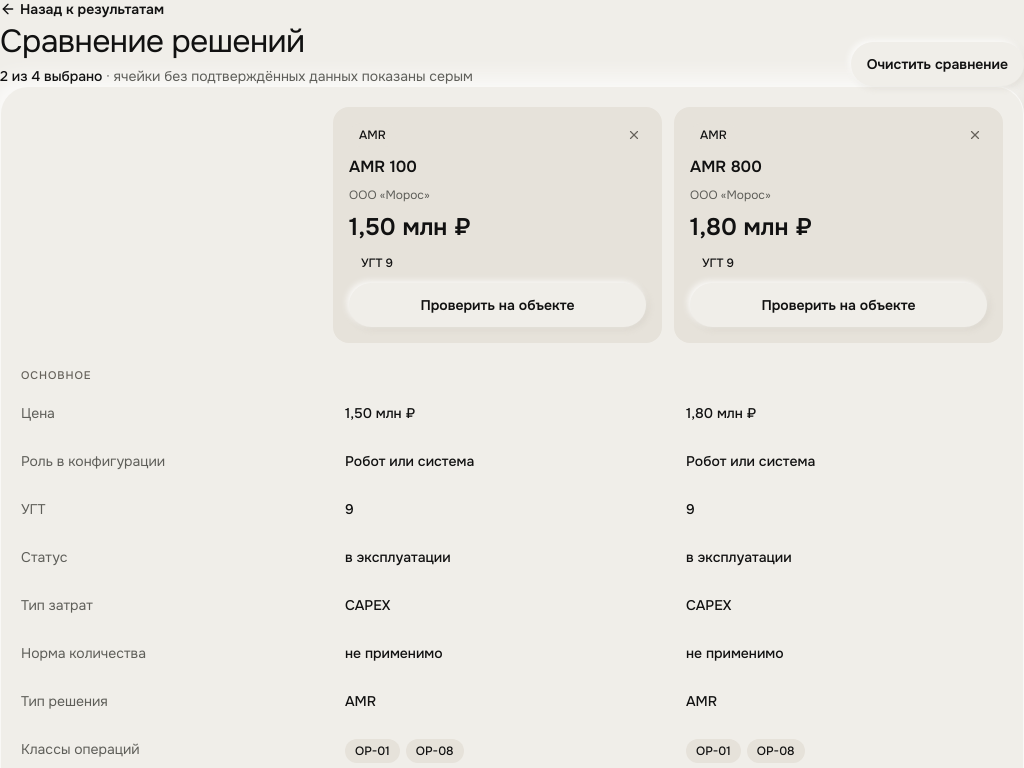
Scenario: ComparePage (экран К-3) › removes a column with the cross and clears the whole set
Click the button named "Убрать из сравнения: AMR 100".
click(634, 135)  # box [622, 123, 646, 147]
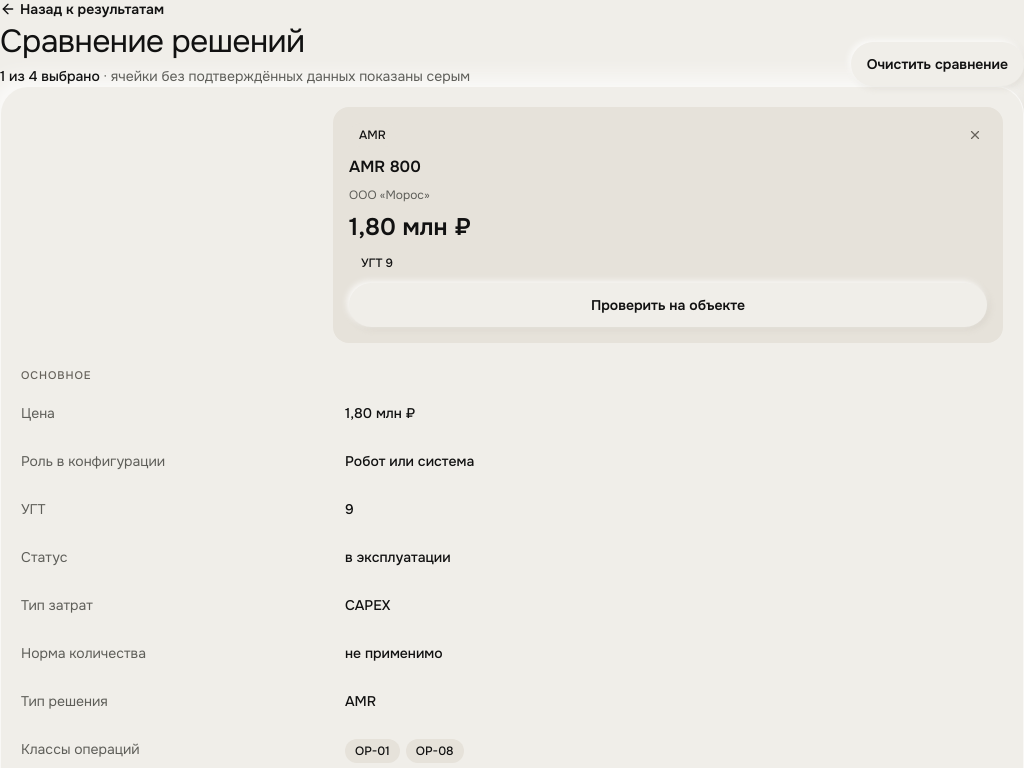
expect the text "1 из 4 выбрано" is shown: met, box [0, 67, 100, 85]
Click the button "Очистить сравнение".
click(937, 64)  # box [851, 42, 1023, 86]
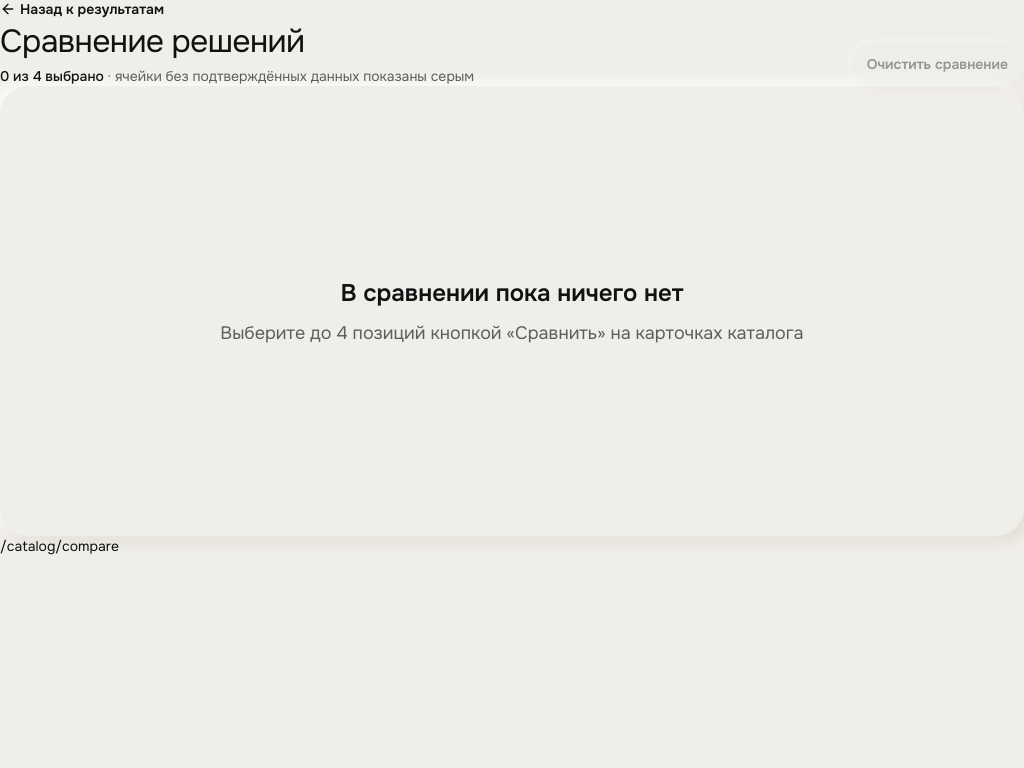
expect the heading "В сравнении пока ничего нет" is shown: met, box [340, 277, 684, 309]
expect the button "Очистить сравнение" is disabled: met, box [851, 42, 1023, 86]
